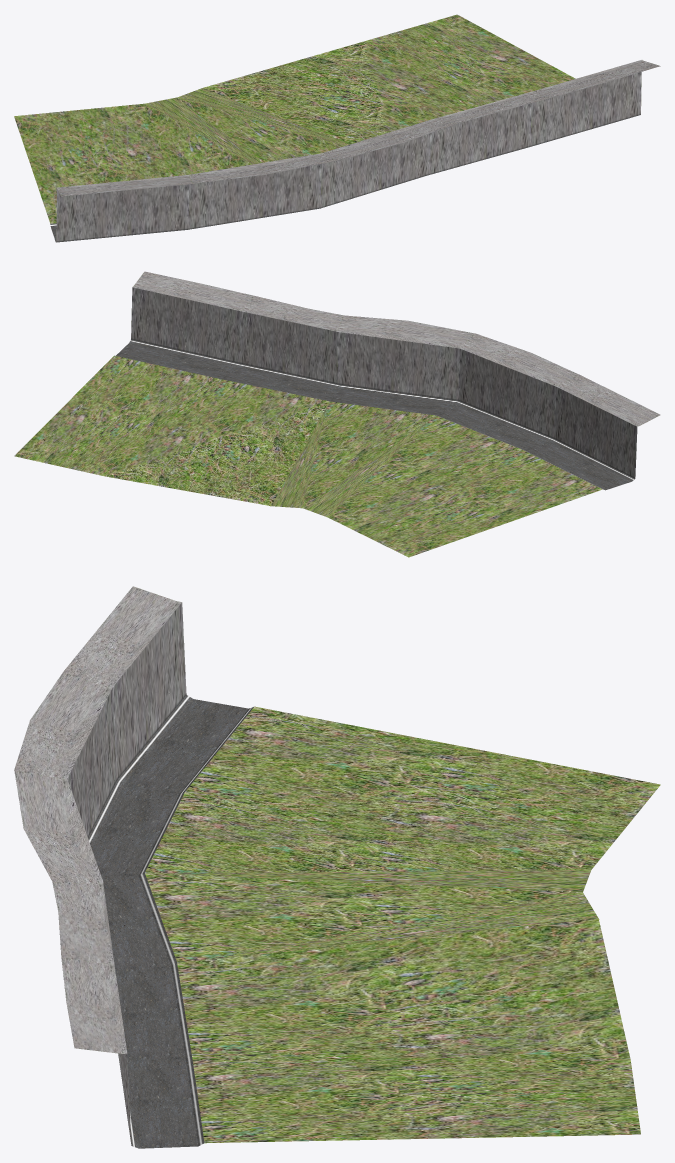
Rendered from Road.dae.
3 renders of one model, top to bottom at view 1: azimuth 30°, elevation 25°; view 2: azimuth 150°, elevation 25°; view 3: azimuth 270°, elevation 25°, orthographic. The views are drawn at different scales.
Parts seen in each view (by area): view 1: Cube; view 2: Cube; view 3: Cube.
Boxes of the visible parts, x1,y1,x2,y2 form: Cube: [14, 14, 660, 242]; Cube: [14, 271, 660, 557]; Cube: [14, 586, 660, 1148].
Bounding box in the file's own units: 464 × 273 × 54.22.
1 material, 1 textured.
